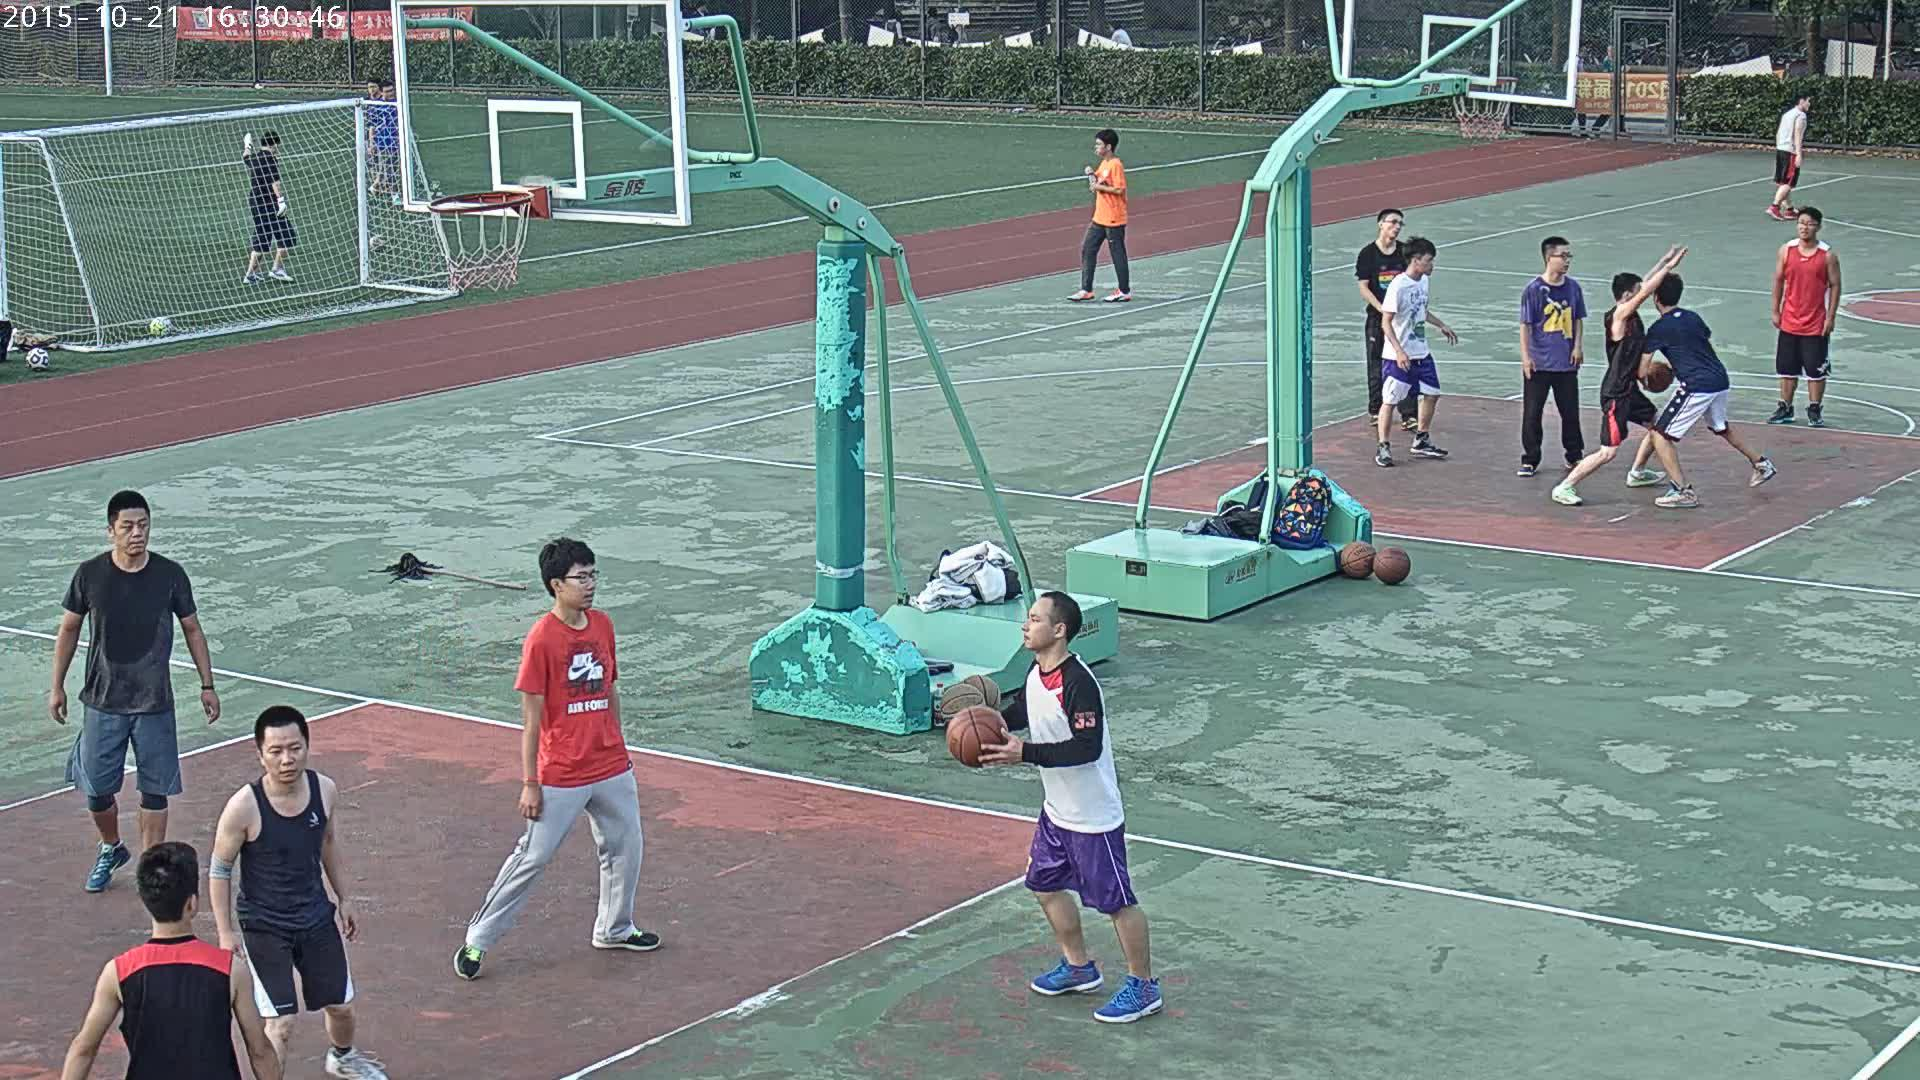person: (943, 589, 1170, 1025), (449, 536, 663, 980), (974, 591, 1167, 1021), (44, 490, 221, 893), (206, 704, 387, 1080), (65, 840, 285, 1080), (1549, 242, 1690, 507), (1634, 271, 1778, 511), (1635, 272, 1777, 510), (1372, 237, 1457, 468), (1765, 206, 1843, 428), (1517, 235, 1588, 477), (1355, 209, 1424, 430), (1067, 127, 1132, 302), (240, 130, 294, 284), (1763, 89, 1812, 221), (368, 80, 408, 207), (1591, 41, 1629, 136), (1562, 43, 1589, 139), (925, 5, 947, 42), (1106, 20, 1132, 47), (690, 1, 709, 35), (884, 15, 902, 39)
